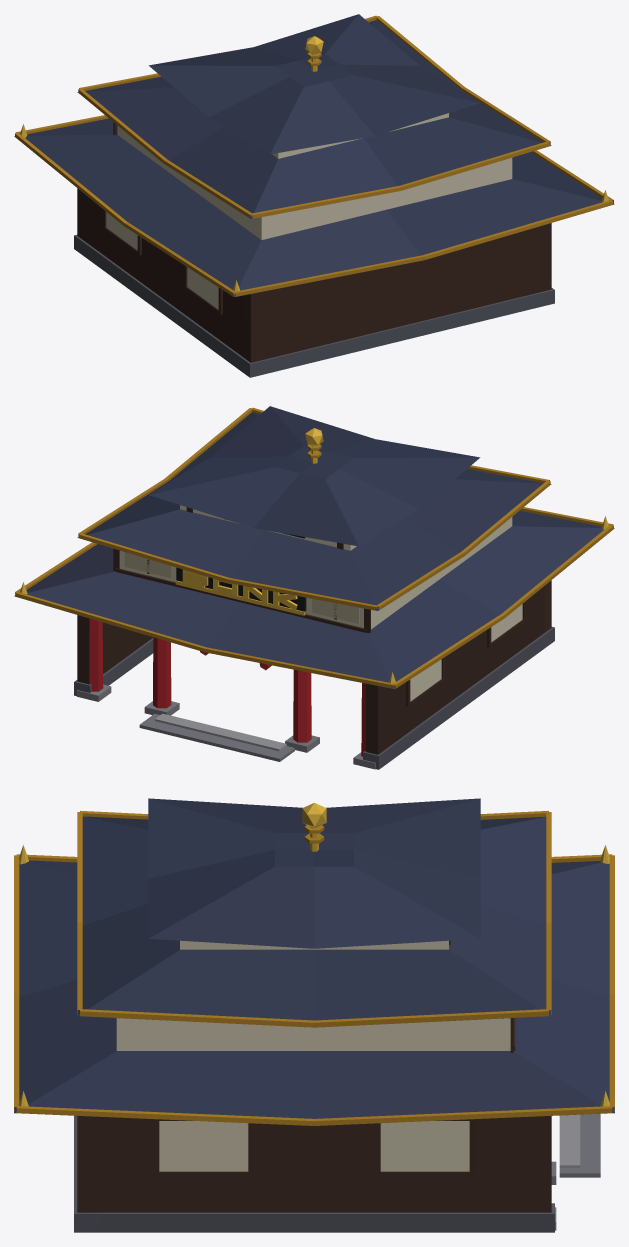
The model's file is Decor_NinjaDojo_Hall.fbx.
The picture shows the model from 3 angles, top to bottom: view 1: azimuth 30°, elevation 25°; view 2: azimuth 150°, elevation 25°; view 3: azimuth 270°, elevation 25°; orthographic projection. The views are drawn at different scales.
Visible parts, largest first — view 1: Hall_Roof, Hall_Body; view 2: Hall_Roof, Hall_Body; view 3: Hall_Roof, Hall_Body.
Part boxes in pixels (x1,y1,x2,y2): Hall_Roof: (14, 14, 614, 297); Hall_Body: (74, 113, 554, 377); Hall_Roof: (14, 406, 614, 689); Hall_Body: (74, 505, 554, 769); Hall_Roof: (14, 798, 614, 1125); Hall_Body: (74, 940, 600, 1232).
Size of the model in its own units: 38 by 22.9 by 38.
